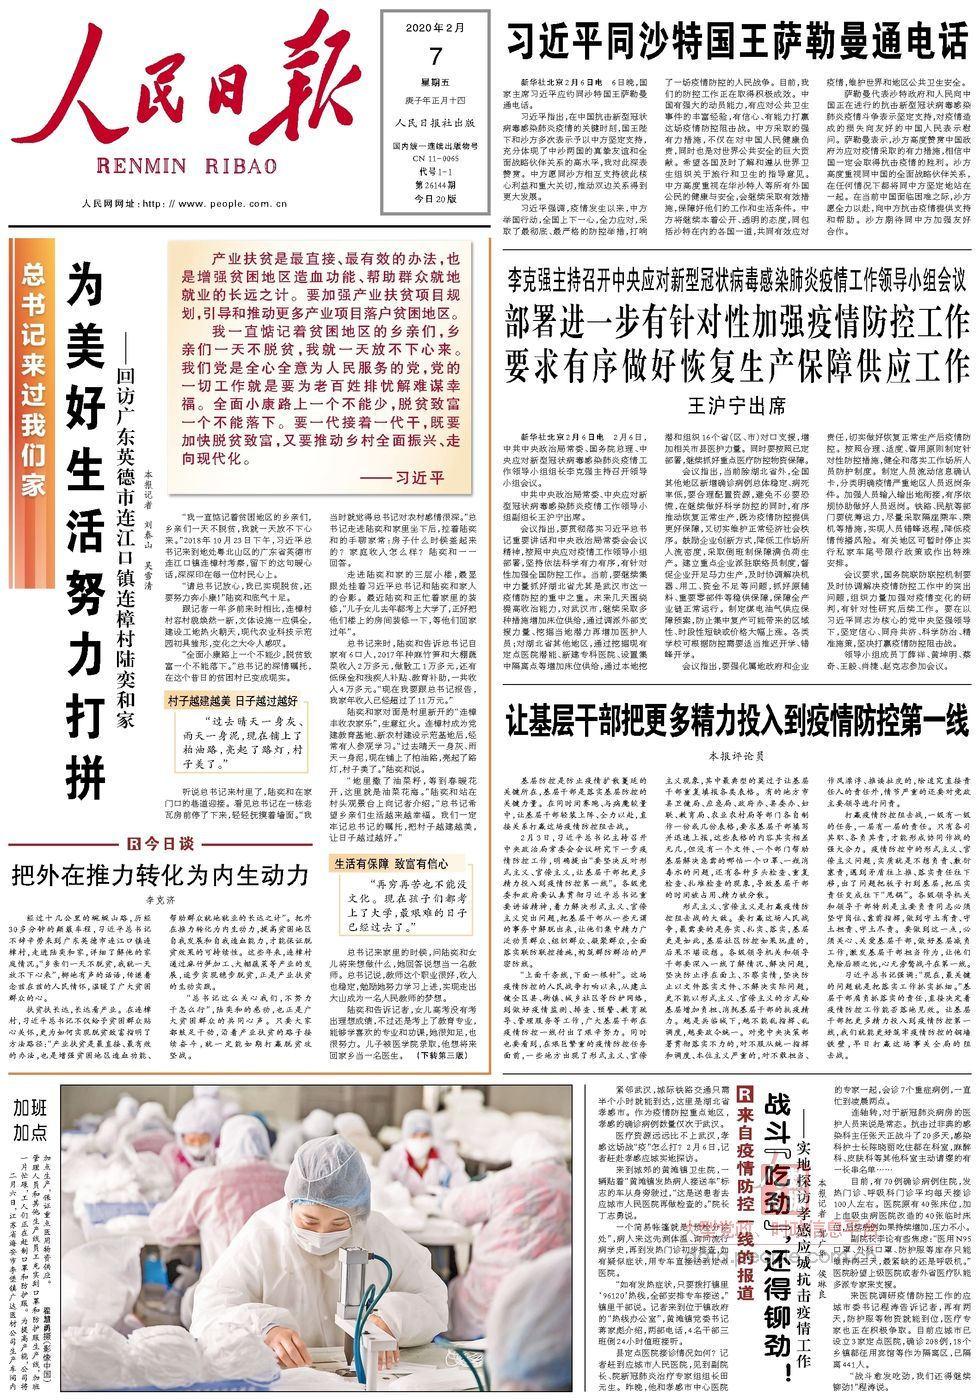pic: (56, 1079, 578, 1397)
